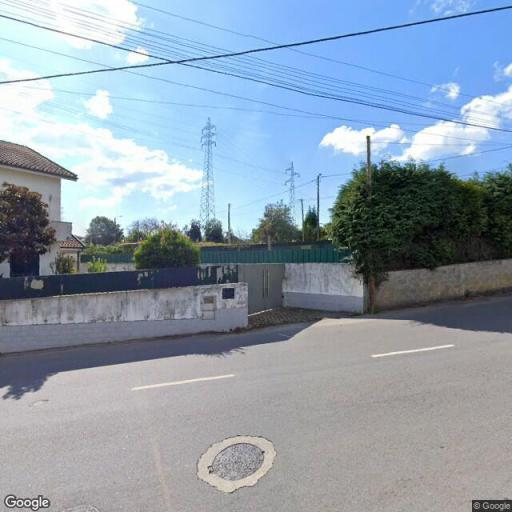ss_3: (197, 112, 221, 226)
ss_4: (282, 158, 302, 226)
